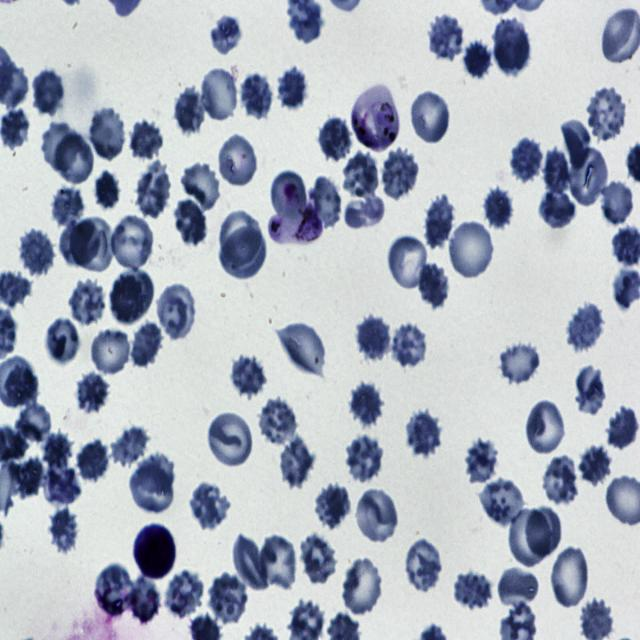leukocyte: (134, 523, 176, 580)
red blood cell: (447, 217, 496, 281), (278, 320, 330, 377), (108, 211, 156, 272), (206, 410, 253, 469), (550, 545, 592, 611), (341, 554, 385, 616), (130, 457, 177, 514), (354, 486, 400, 544), (568, 146, 610, 209), (584, 84, 629, 142), (386, 232, 431, 290), (217, 210, 262, 268), (256, 534, 300, 593), (92, 564, 136, 622), (507, 511, 552, 567), (132, 163, 176, 220), (220, 227, 267, 280), (254, 395, 300, 449), (110, 268, 154, 324), (52, 130, 96, 186), (524, 400, 566, 458), (476, 478, 526, 526), (217, 133, 259, 190), (409, 88, 451, 145), (187, 479, 233, 531), (70, 218, 114, 272), (154, 284, 196, 340), (207, 570, 249, 626), (200, 65, 240, 123), (87, 105, 127, 163), (494, 16, 532, 76), (404, 537, 444, 594), (180, 156, 222, 210), (522, 505, 563, 560), (312, 481, 354, 534), (494, 564, 542, 610), (342, 433, 386, 483), (380, 145, 420, 200), (275, 434, 314, 490), (66, 278, 109, 328), (90, 327, 132, 378), (232, 534, 270, 590), (404, 408, 445, 458), (43, 315, 83, 366), (42, 121, 82, 171), (575, 362, 611, 417), (349, 380, 388, 429), (17, 228, 55, 278), (498, 342, 540, 387), (423, 191, 456, 248), (389, 321, 429, 368), (170, 198, 208, 247), (300, 536, 337, 586), (225, 353, 267, 397), (109, 424, 150, 468), (510, 135, 546, 185), (542, 456, 579, 504), (28, 67, 64, 116), (567, 304, 603, 353), (60, 220, 100, 264), (240, 72, 275, 122), (308, 176, 341, 229), (165, 569, 201, 617), (276, 64, 310, 114), (428, 13, 464, 60), (127, 115, 164, 160), (75, 438, 111, 484), (597, 182, 637, 223), (538, 186, 576, 229), (75, 370, 112, 414), (50, 183, 86, 228), (174, 86, 207, 135), (128, 578, 161, 627), (344, 152, 379, 198), (130, 322, 164, 369), (561, 117, 591, 169), (205, 14, 242, 56), (466, 436, 498, 484), (17, 399, 51, 444), (606, 404, 639, 450), (358, 313, 390, 360), (320, 117, 354, 161), (453, 572, 492, 610), (479, 187, 514, 229), (542, 147, 572, 196), (416, 262, 449, 306), (579, 444, 613, 486), (42, 431, 72, 474), (50, 508, 78, 554), (1, 108, 30, 150), (463, 39, 493, 78), (96, 168, 120, 210)
trophozoite: (351, 82, 400, 151), (268, 186, 324, 244)
